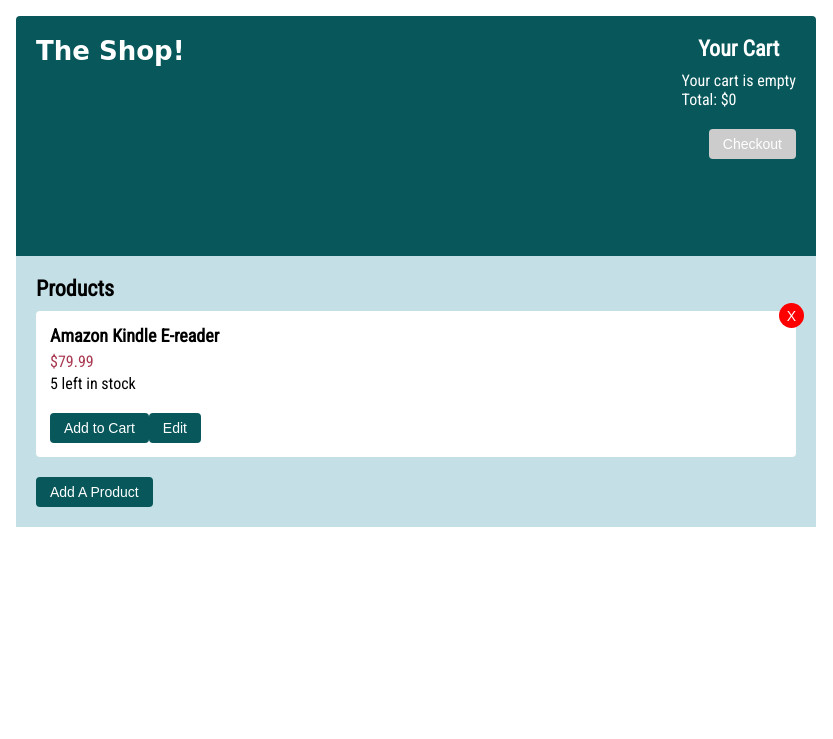
Scenario: editing a product closes the edit form and updates respective product
Expected: the heading "Amazon Kindle E-reader" is shown, x1=50 y1=325 x2=219 y2=346
Click the button "Edit": (175, 428) x1=149 y1=413 x2=201 y2=443
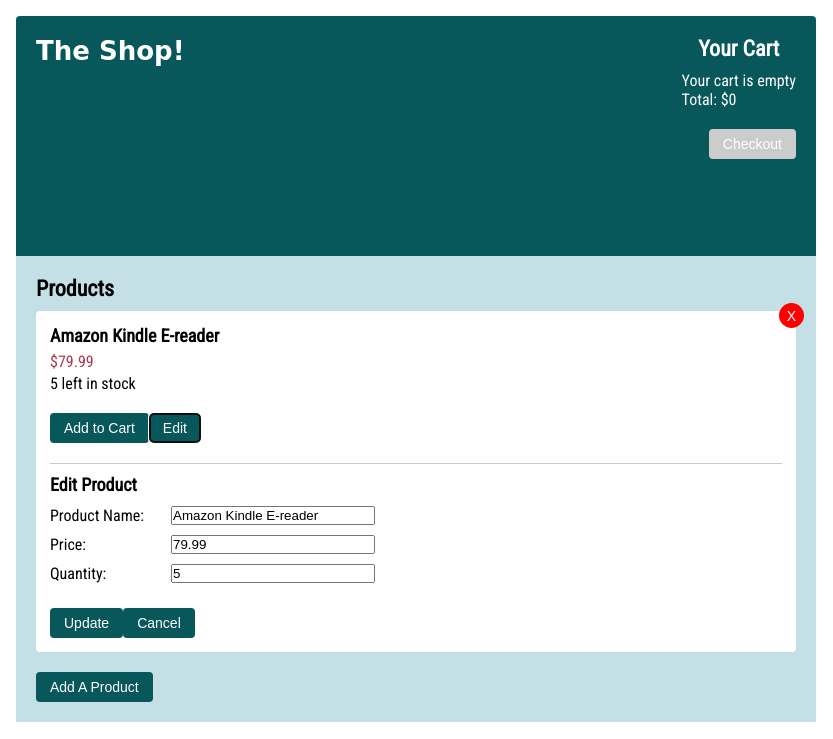
Replace the text in the field labelled "Product Name:" with "Dune": (273, 516) x1=171 y1=506 x2=375 y2=525
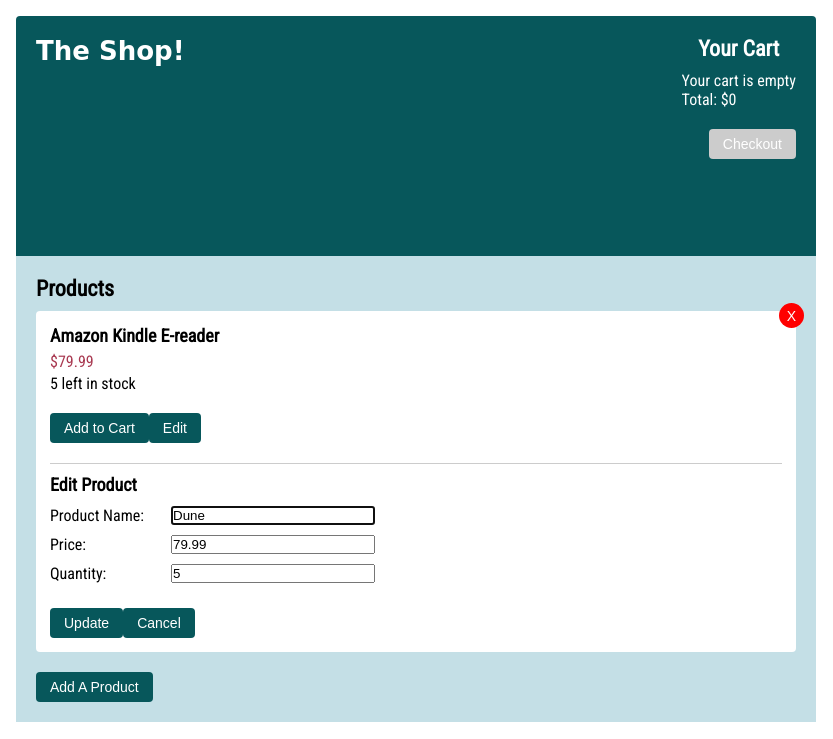
Replace the text in the number field named "Product Price" with "29.99": (273, 544) x1=171 y1=535 x2=375 y2=554
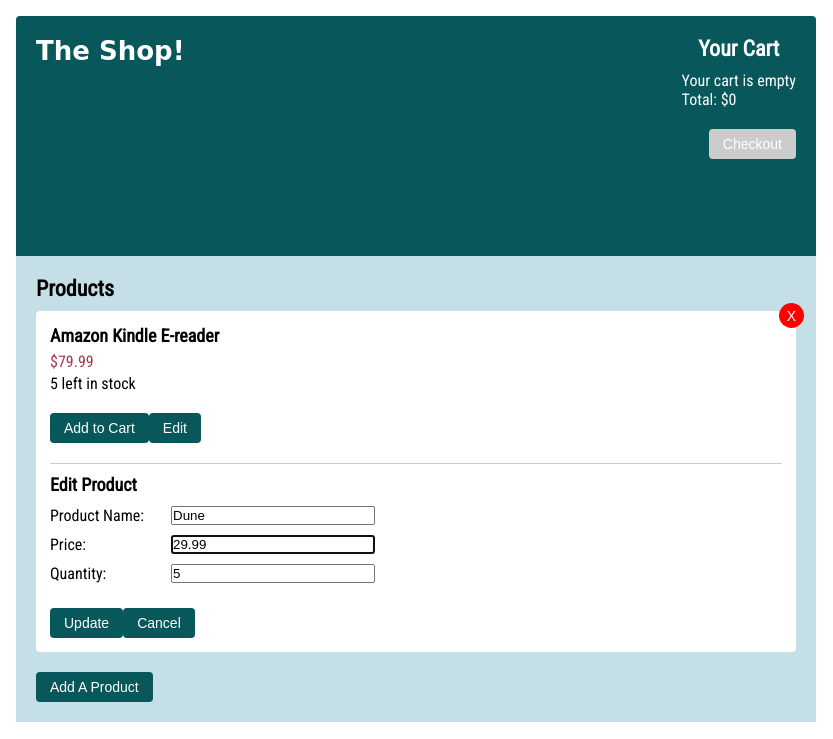
Click the button "Update": (87, 623) x1=50 y1=608 x2=123 y2=638
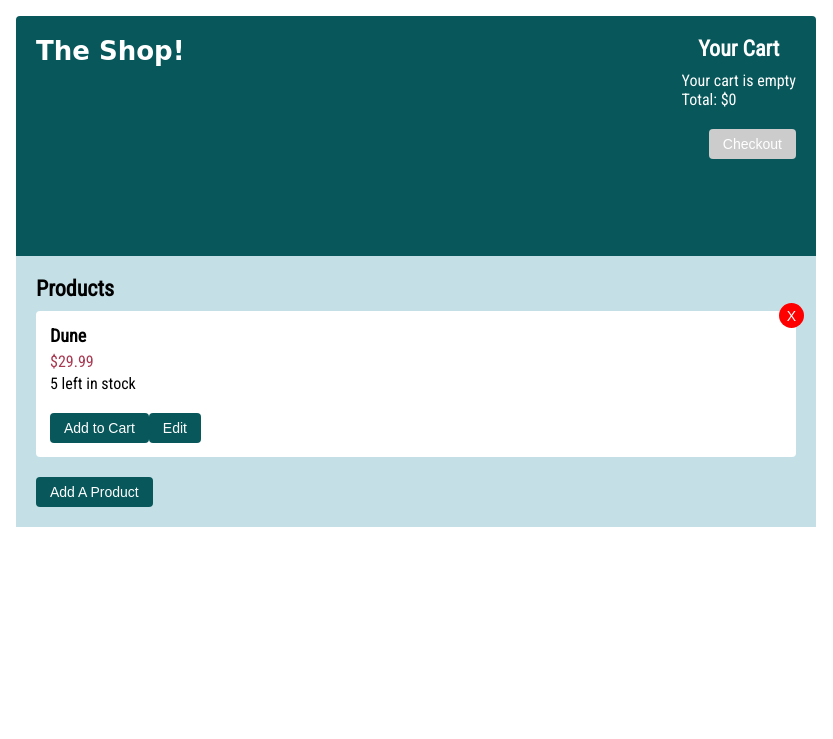
Expected: the heading "Dune" is shown, x1=50 y1=325 x2=86 y2=346
Expected: the text "$29.99" is shown, x1=50 y1=352 x2=94 y2=371
Expected: the heading "Edit Product" is gone
